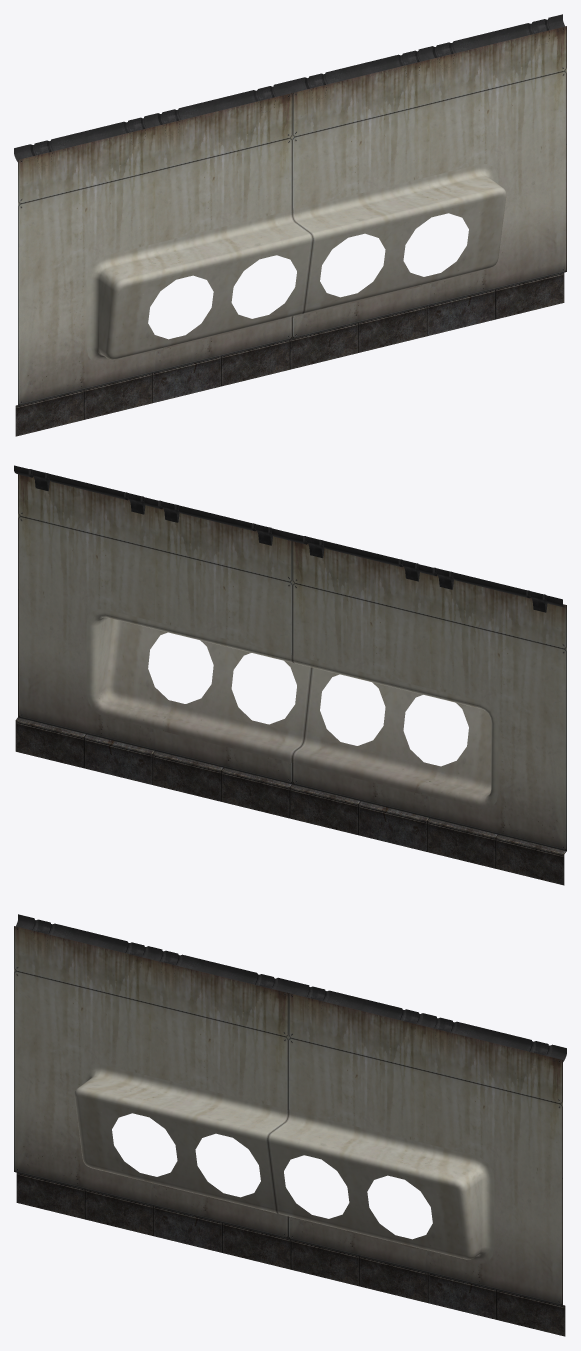
File: lab_vents_long_special.dae
3 renders of one model, top to bottom at view 1: azimuth 30°, elevation 25°; view 2: azimuth 150°, elevation 25°; view 3: azimuth 330°, elevation 25°, orthographic.
Visible parts, largest first — view 1: lab_vents_special; view 2: lab_vents_special; view 3: lab_vents_special.
Boxes of the visible parts, x1,y1,x2,y2 form: lab_vents_special: (14,14,566,436); lab_vents_special: (14,465,566,885); lab_vents_special: (14,914,566,1336).
Bounding box in the file's own units: 8 × 4 × 0.6218.
